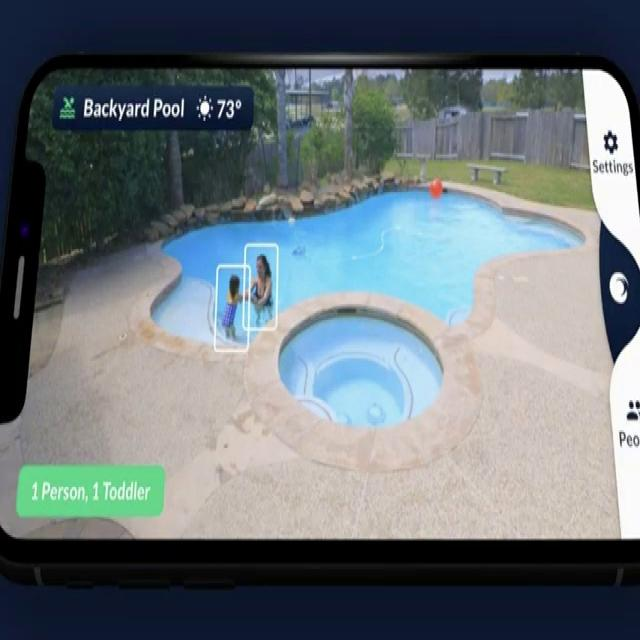adult: (246, 252, 272, 315)
child: (224, 274, 244, 343)
